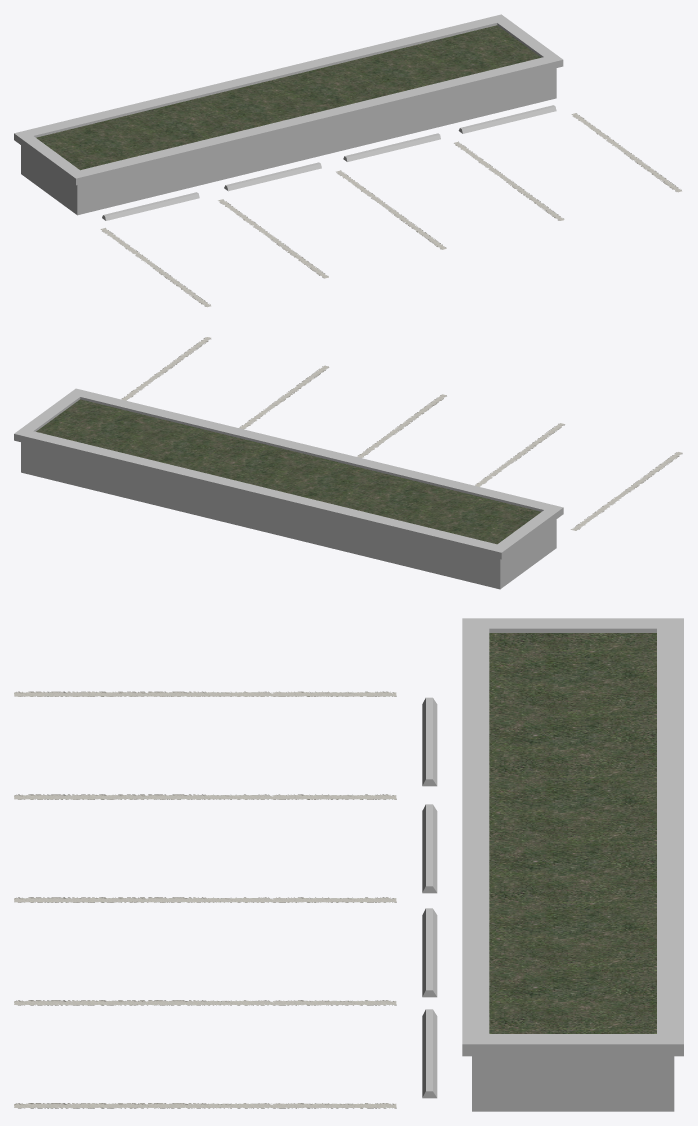
The model's file is Park-10.fbx.
3 views of the same model, one above another, from view 1: azimuth 30°, elevation 25°; view 2: azimuth 150°, elevation 25°; view 3: azimuth 270°, elevation 25° (orthographic). The views are drawn at different scales.
Parts seen in each view (by area): view 1: Park-10; view 2: Park-10; view 3: Park-10.
Boxes of the visible parts, x1=… form: Park-10: x1=14, y1=14, x2=681, y2=307; Park-10: x1=14, y1=337, x2=682, y2=589; Park-10: x1=14, y1=618, x2=683, y2=1111.
Size of what is drawn, in the model's own units: 11.18 by 0.8699 by 7.43.
